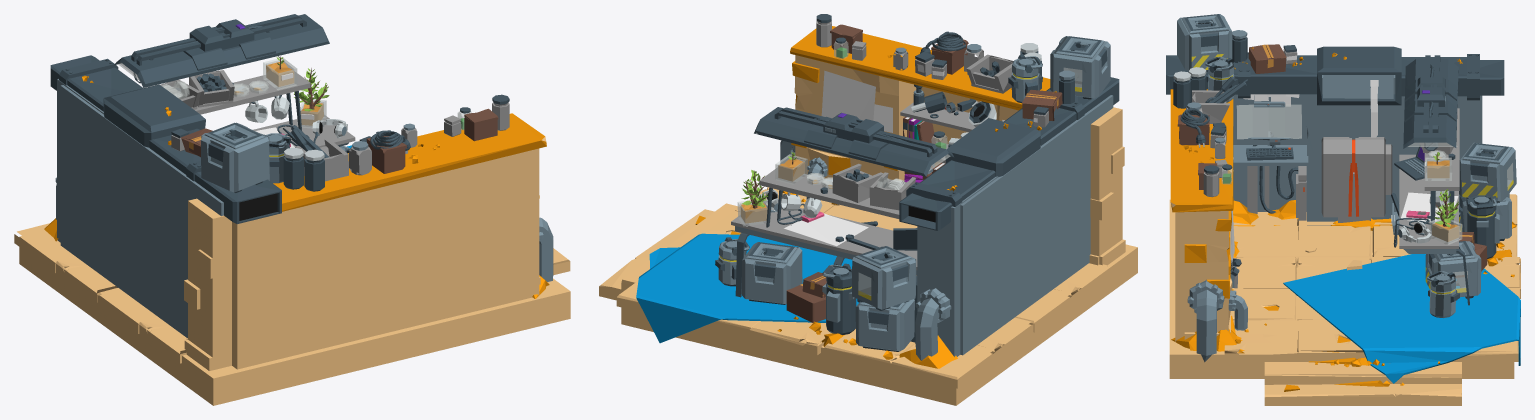
The model's file is room.glb.
The picture shows the model from 3 angles, left to right: view 1: azimuth 30°, elevation 25°; view 2: azimuth 150°, elevation 25°; view 3: azimuth 270°, elevation 25°; orthographic projection. The views are drawn at different scales.
Parts seen in each view (by area): view 1: group987980187, group1807314114, group1184716703, group1819965688, group92703077, group599849108, group1288222834, group1423134592, group1539503804, group1209339750; view 2: group1807314114, group987980187, group1184716703, group92703077, group1899386574, group1819965688, group599849108, group1941141985, group1288222834, group1423134592, group1209339750; view 3: group987980187, group1807314114, group1184716703, group1899386574, group92703077, group1819965688, group1288222834, group599849108, group1941141985, group1423134592, group965971404, group336546623 (+1 smaller).
Boxes of the visible parts, box(x1,y1,x2,y2) form: group987980187: box(14, 136, 570, 405); group1807314114: box(55, 73, 553, 338); group1184716703: box(50, 14, 509, 224); group1819965688: box(44, 62, 549, 298); group92703077: box(160, 70, 509, 181); group599849108: box(180, 56, 498, 173); group1288222834: box(118, 58, 471, 130); group1423134592: box(175, 84, 407, 160); group1539503804: box(239, 122, 336, 220); group1209339750: box(276, 56, 329, 111); group1807314114: box(718, 36, 1113, 360); group987980187: box(599, 55, 1137, 405); group1184716703: box(715, 14, 1119, 351); group92703077: box(731, 21, 1048, 270); group1899386574: box(636, 233, 858, 343); group1819965688: box(695, 26, 1058, 368); group599849108: box(745, 24, 1062, 322); group1941141985: box(766, 64, 1037, 246); group1288222834: box(737, 41, 1082, 295); group1423134592: box(750, 43, 1041, 218); group1209339750: box(741, 152, 796, 207); group987980187: box(1169, 194, 1520, 405); group1807314114: box(1177, 14, 1516, 363); group1184716703: box(1166, 14, 1508, 317); group1899386574: box(1283, 254, 1520, 383); group92703077: box(1186, 49, 1459, 288); group1819965688: box(1170, 44, 1516, 391); group1288222834: box(1221, 104, 1513, 292); group599849108: box(1177, 44, 1487, 277); group1941141985: box(1224, 55, 1458, 271); group1423134592: box(1173, 67, 1449, 243); group965971404: box(1191, 54, 1513, 294); group336546623: box(1268, 104, 1358, 216).
Bounding box in the file's own units: 5.31 × 3.12 × 4.43.
